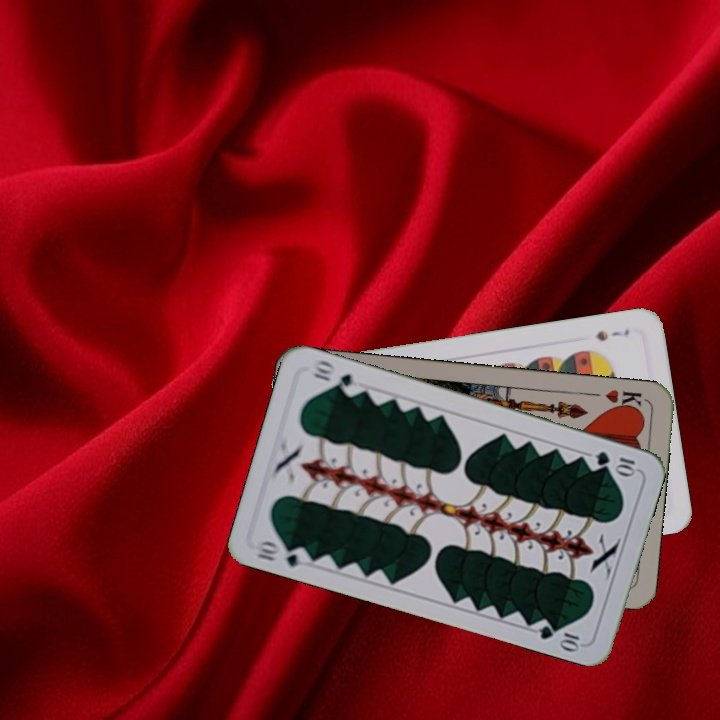G10: (252, 536, 312, 570), (591, 447, 640, 477)
HK: (601, 385, 648, 414)
S7: (592, 324, 632, 344)
